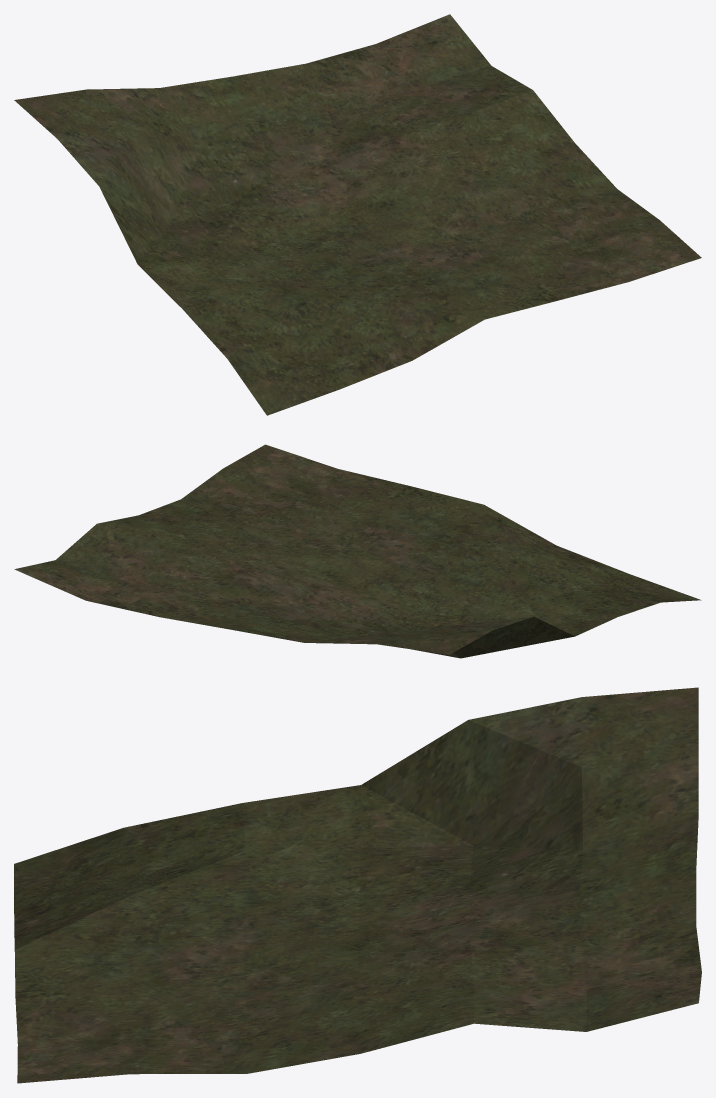
File: blend_weeds12.fbx
The picture shows the model from 3 angles, top to bottom: view 1: azimuth 30°, elevation 25°; view 2: azimuth 150°, elevation 25°; view 3: azimuth 270°, elevation 25°; orthographic projection. The views are drawn at different scales.
Parts seen in each view (by area): view 1: obj0.033; view 2: obj0.033; view 3: obj0.033.
Part boxes in pixels (x1,y1,x2,y2): obj0.033: (14, 14, 701, 415); obj0.033: (14, 444, 701, 658); obj0.033: (14, 687, 701, 1083).
Bounding box in the file's own units: 15.04 × 4.29 × 15.15.
